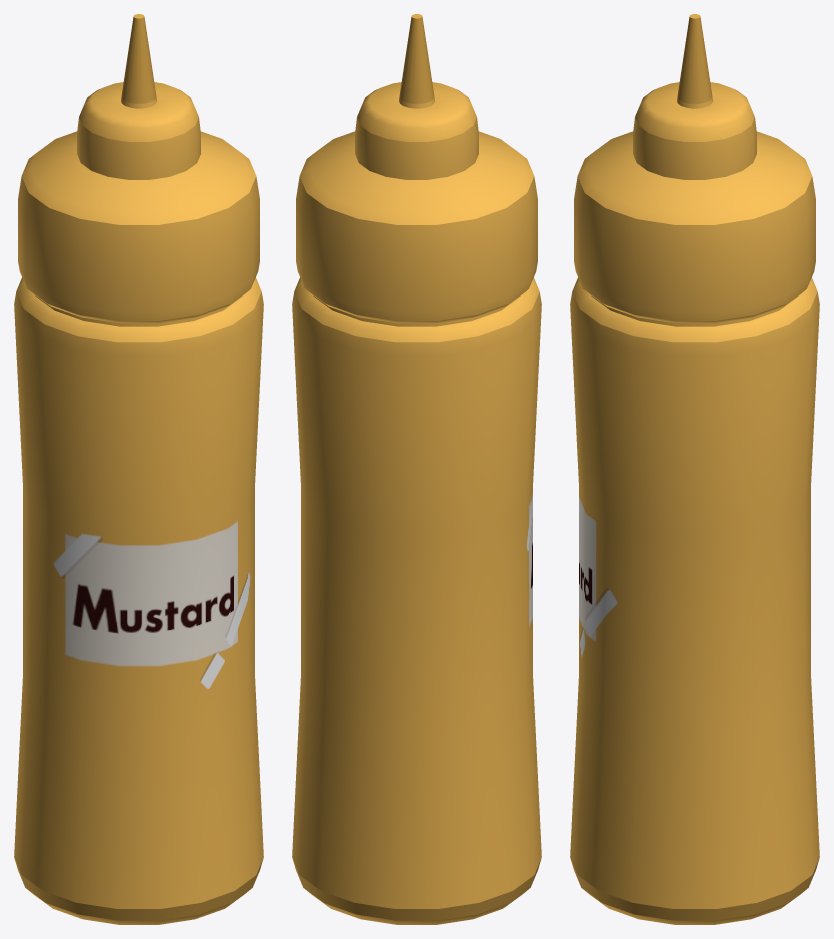
File: Murtard.fbx
3 views of the same model, side by side, from view 1: azimuth 30°, elevation 25°; view 2: azimuth 150°, elevation 25°; view 3: azimuth 270°, elevation 25° (orthographic).
Parts seen in each view (by area): view 1: Mustard.Bottle; view 2: Mustard.Bottle; view 3: Mustard.Bottle.
Part boxes in pixels (bbox=[...]): Mustard.Bottle: bbox=[14, 14, 263, 924]; Mustard.Bottle: bbox=[292, 14, 541, 924]; Mustard.Bottle: bbox=[570, 14, 819, 924].
Bounding box in the file's own units: 23.64 × 91.39 × 24.
